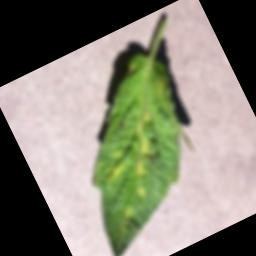Leaf_Mold: (122, 132, 165, 178), (90, 144, 134, 187), (126, 104, 158, 137)
